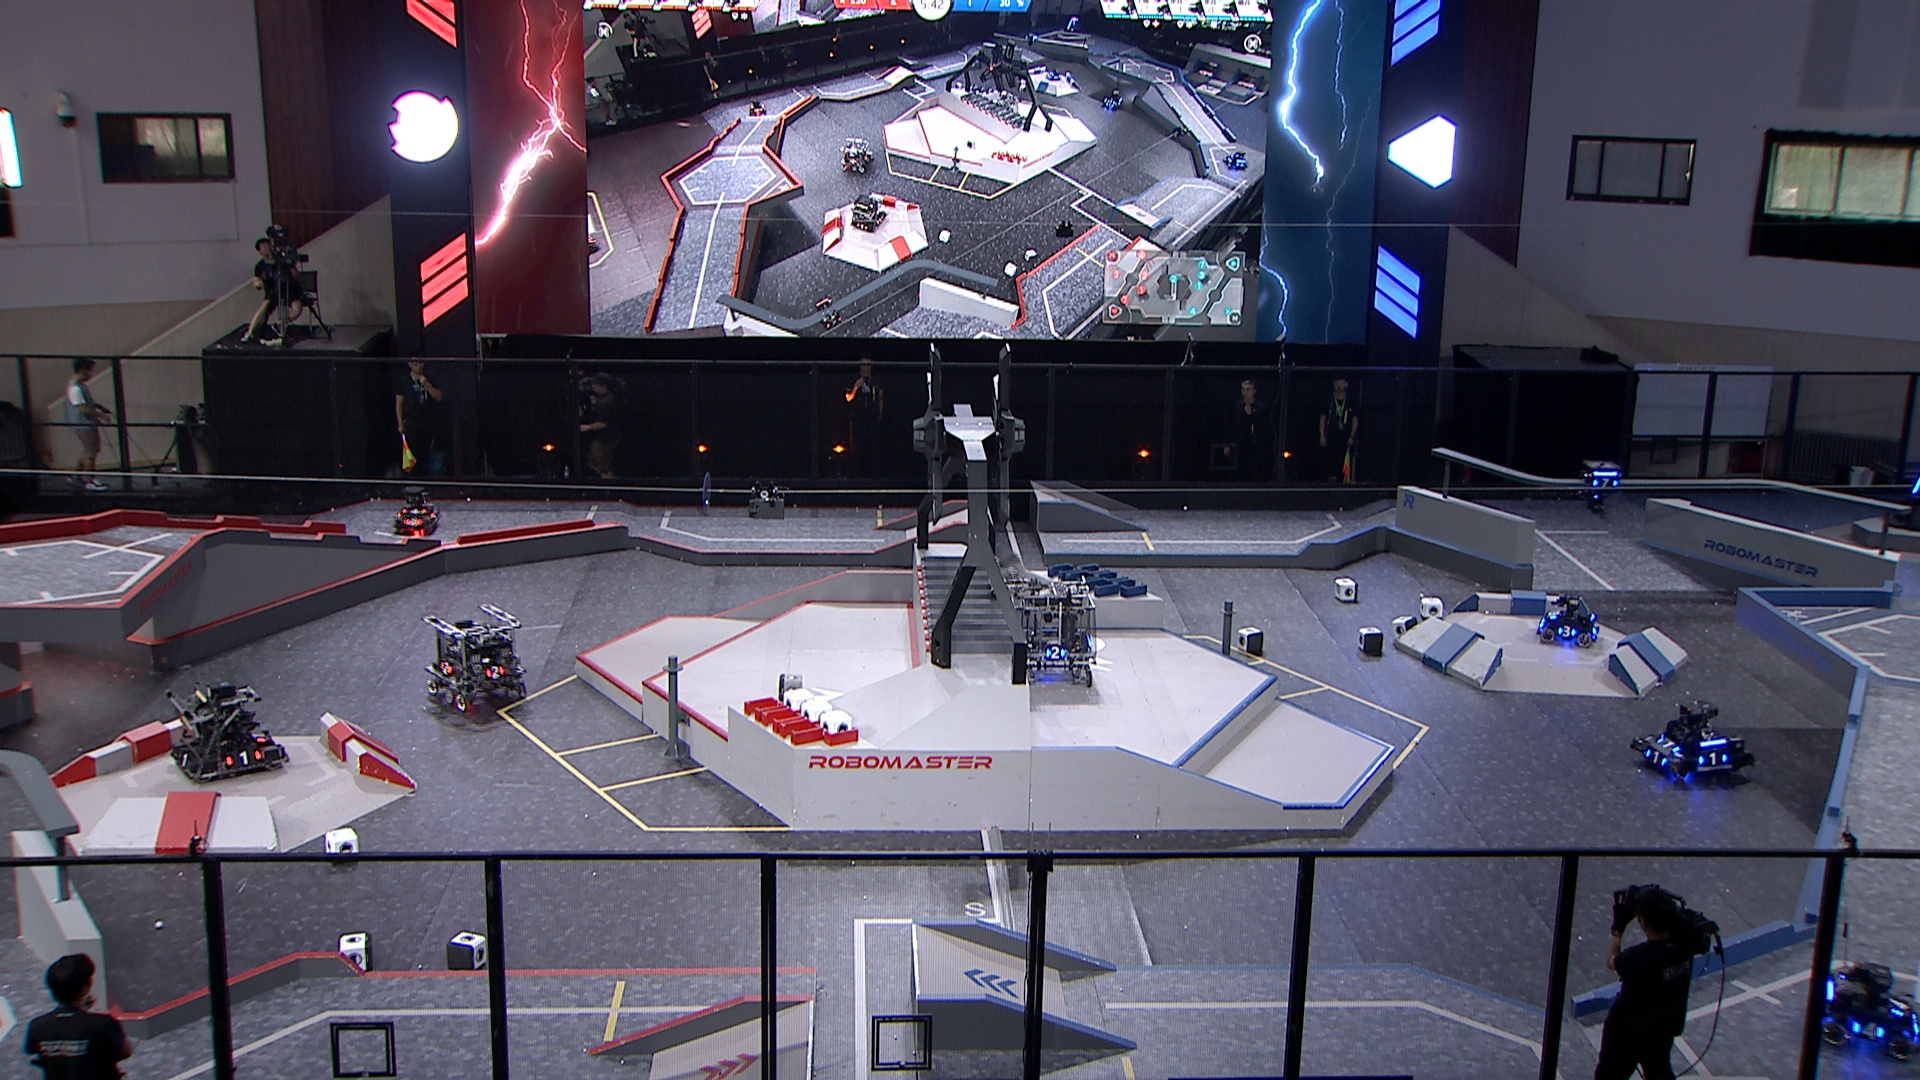armor: (1847, 1021, 1887, 1043), (224, 752, 266, 767), (1887, 996, 1911, 1022), (1655, 736, 1684, 756), (1697, 752, 1730, 766), (1644, 750, 1669, 767), (1592, 477, 1619, 491), (484, 665, 506, 680), (1043, 645, 1067, 659), (174, 752, 193, 770), (436, 659, 455, 678), (248, 731, 268, 746), (401, 508, 429, 518), (1557, 626, 1577, 640), (1545, 608, 1561, 622), (404, 517, 423, 527), (1911, 477, 1920, 495)
base: (1888, 443, 1920, 537)
car: (166, 680, 291, 785), (423, 603, 527, 712), (1812, 957, 1920, 1060), (1629, 698, 1755, 781), (1007, 575, 1100, 688), (1538, 589, 1602, 647), (392, 484, 440, 535)
ignore: (851, 195, 887, 233), (839, 138, 876, 174), (814, 295, 845, 330), (1102, 87, 1125, 109), (1225, 152, 1250, 171), (746, 98, 767, 117), (1065, 15, 1083, 36), (588, 232, 603, 255), (1044, 67, 1063, 80), (1025, 33, 1039, 46)
watcher: (1577, 462, 1626, 517)
